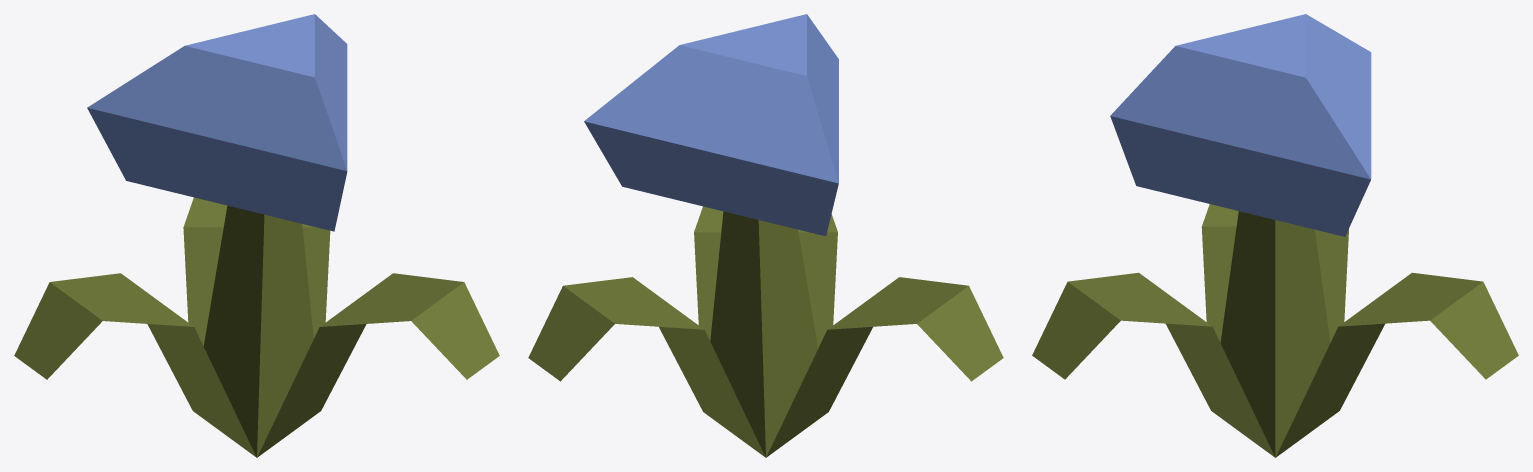
The model's file is fleur-violette-2.glb.
The picture shows the model from 3 angles, left to right: view 1: azimuth 30°, elevation 25°; view 2: azimuth 150°, elevation 25°; view 3: azimuth 270°, elevation 25°; orthographic projection. The views are drawn at different scales.
Visible parts, largest first — view 1: flower_purpleB; view 2: flower_purpleB; view 3: flower_purpleB.
Part boxes in pixels (x1,y1,x2,y2): flower_purpleB: (14,14,499,457); flower_purpleB: (528,14,1003,457); flower_purpleB: (1032,14,1518,457).
Size of the model in its own units: 0.3977 by 0.4 by 0.4589.
